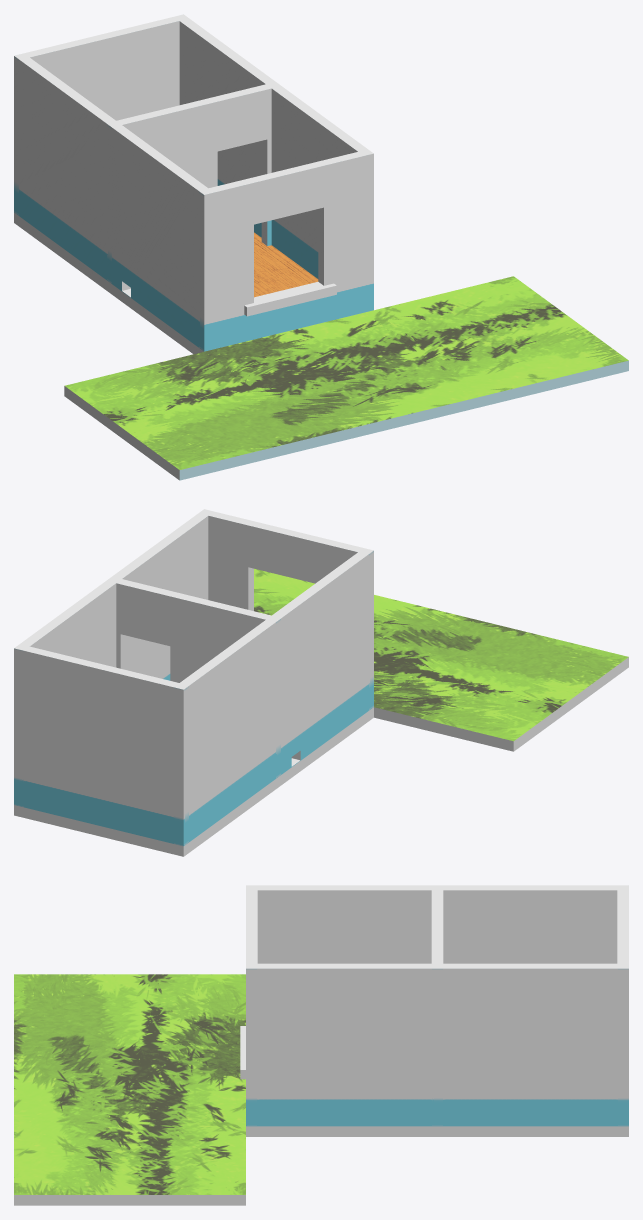
File: RoomEnvironmentV3.1.fbx
3 views of the same model, one above another, from view 1: azimuth 30°, elevation 25°; view 2: azimuth 150°, elevation 25°; view 3: azimuth 270°, elevation 25° (orthographic).
Parts seen in each view (by area): view 1: Room; view 2: Room; view 3: Room.
Boxes of the visible parts, x1,y1,x2,y2 form: Room: (14, 14, 628, 480); Room: (14, 509, 628, 856); Room: (14, 885, 628, 1205).
Size of the model in its own units: 900 by 320 by 1060.
Materials: 3 (3 with a texture image).
